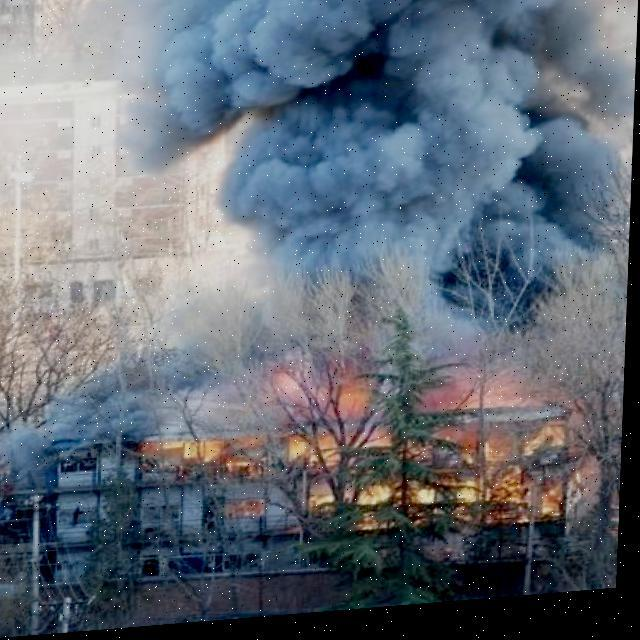Fire: (179, 347, 597, 548)
